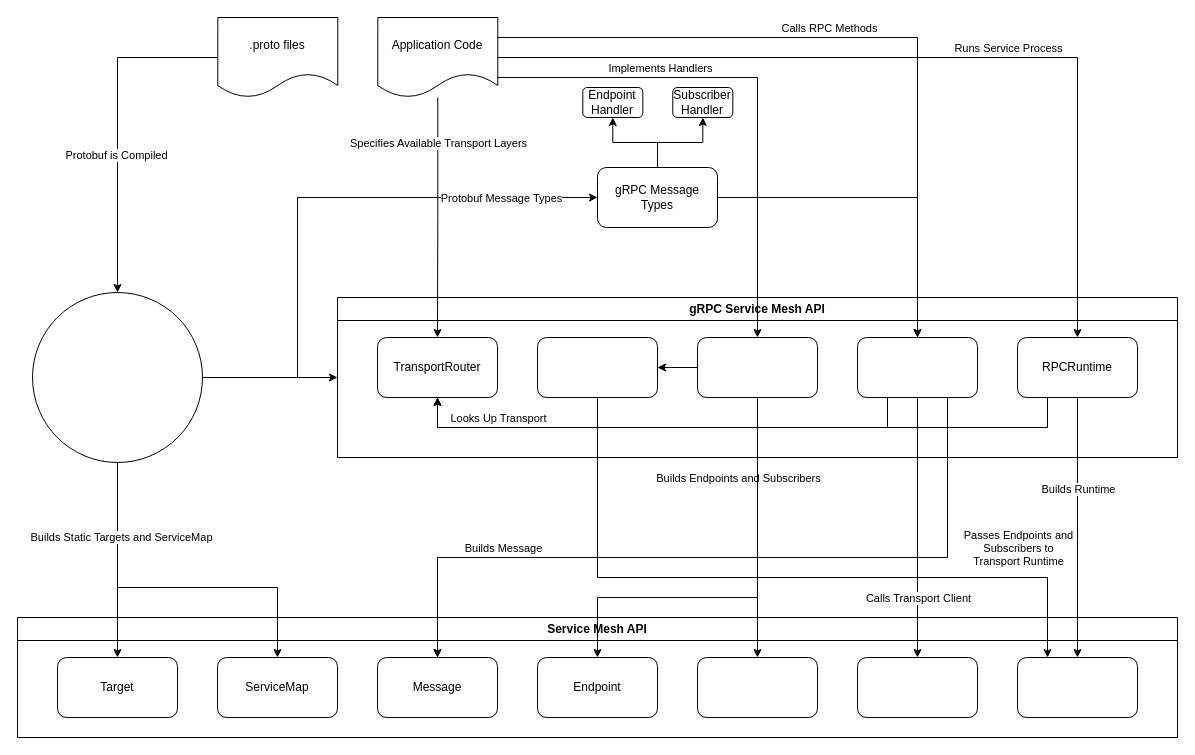
Image size: 1195x755. Some labels were removed from this diagram. The shapes that lost their labels are listed below. From the top down, each one's box as (x1, y1, x2, y2) in pixels, then its label:
(32, 292, 202, 462): protoc / generator (code generation)
(536, 336, 658, 398): Registry
(696, 336, 818, 398): RPCService Type
(856, 336, 978, 398): RPCClient Type
(696, 656, 818, 718): Subscriber
(856, 656, 978, 718): Client
(1016, 656, 1138, 718): Runtime
